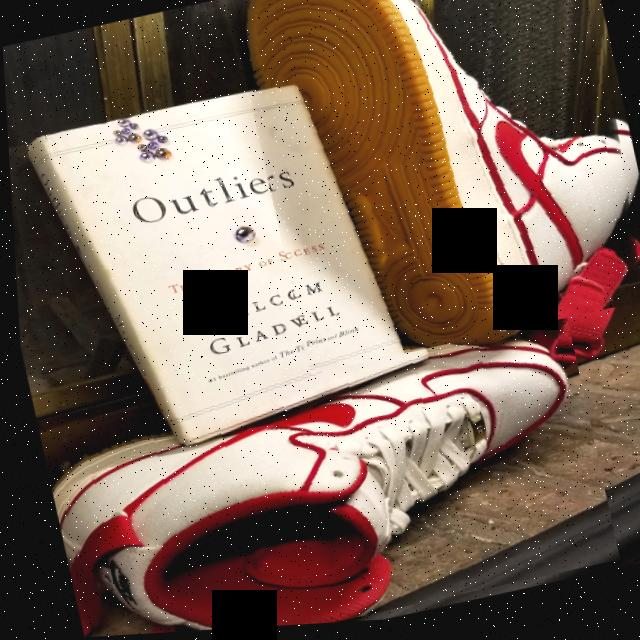shoe: (35, 312, 615, 639), (228, 0, 640, 380)
